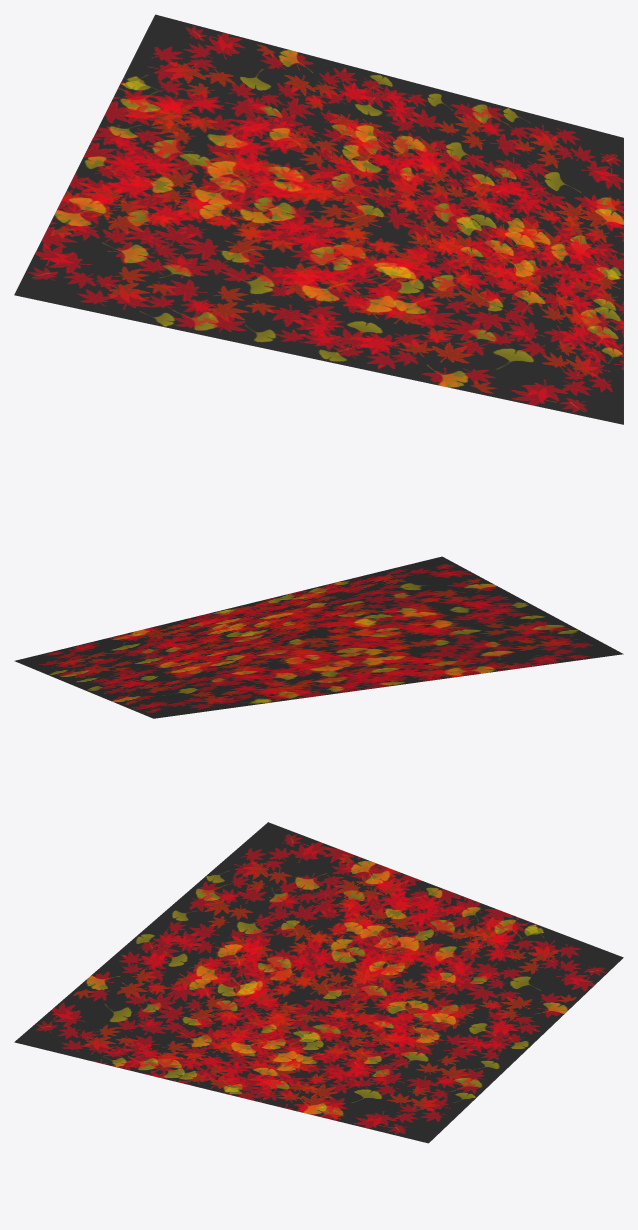
File: CourseAki_CurveFloor_3_35.fbx
The picture shows the model from 3 angles, top to bottom: view 1: azimuth 30°, elevation 25°; view 2: azimuth 150°, elevation 25°; view 3: azimuth 270°, elevation 25°; orthographic projection. The views are drawn at different scales.
Visible parts, largest first — view 1: polySurface484; view 2: polySurface484; view 3: polySurface484.
Boxes of the visible parts, bbox=[...] form: polySurface484: bbox=[14, 14, 623, 424]; polySurface484: bbox=[14, 556, 623, 718]; polySurface484: bbox=[14, 822, 623, 1143].
Bounding box in the file's own units: 7.38 × 2 × 7.64.
Materials: 1 (1 with a texture image).
